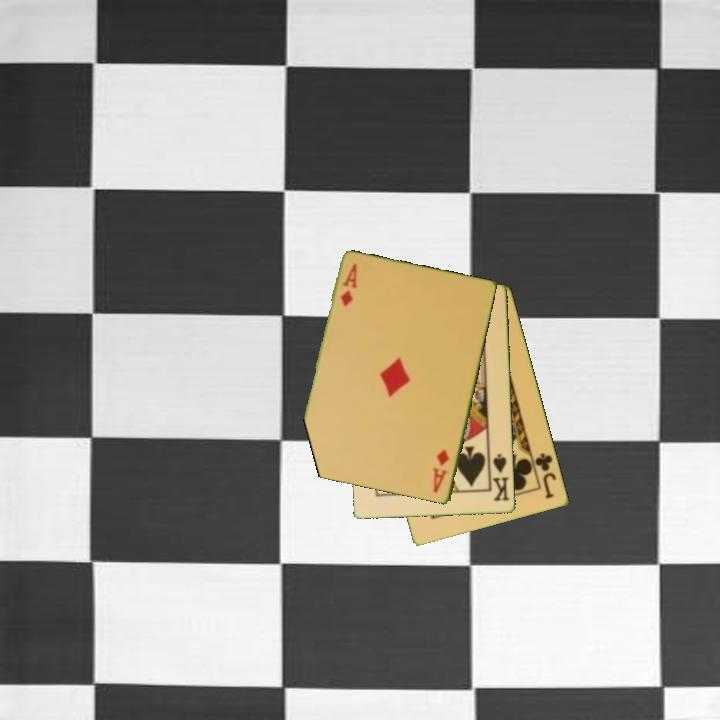Ad: (430, 446, 453, 496), (337, 260, 360, 310)
Jc: (532, 449, 559, 502)
Ks: (487, 451, 512, 504)
